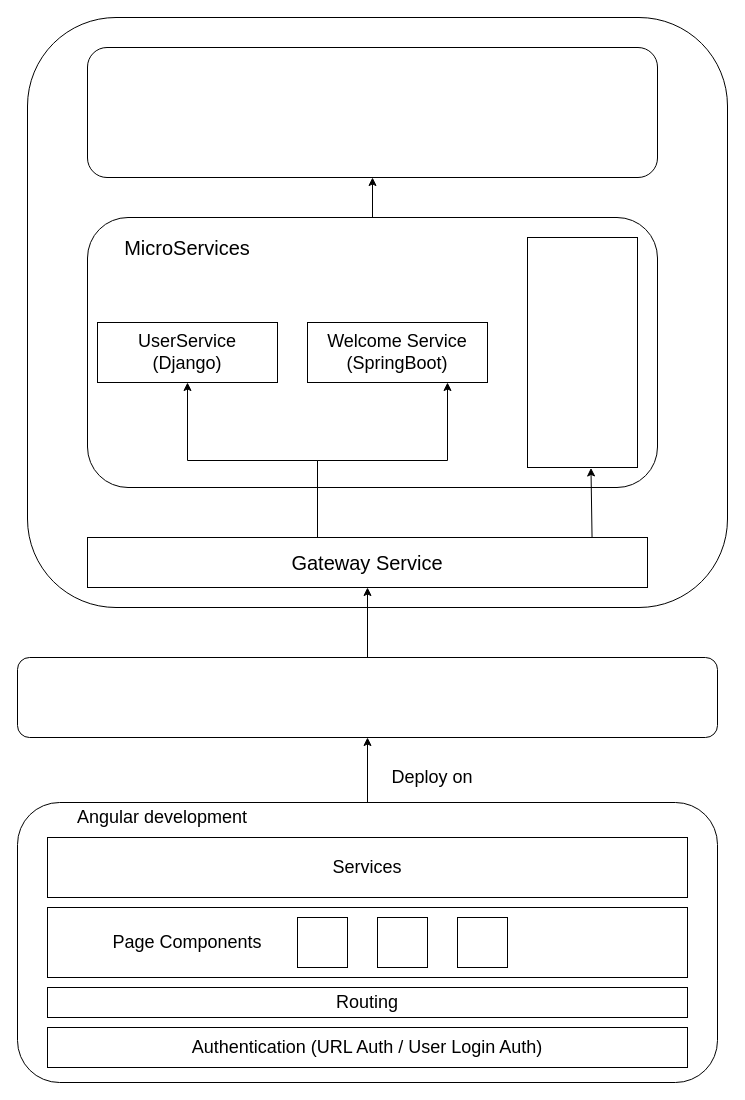
Image size: 745x1100. Some labels were removed from this diagram. The shapes that lost their labels are listed below. From the top down, each one's box as (x1, y1, x2, y2) in pixels, then its label:
(86, 46, 658, 178): Database (MySQL)
(526, 236, 638, 468): Eureka-Discovery Service
(16, 656, 718, 738): Nginx
